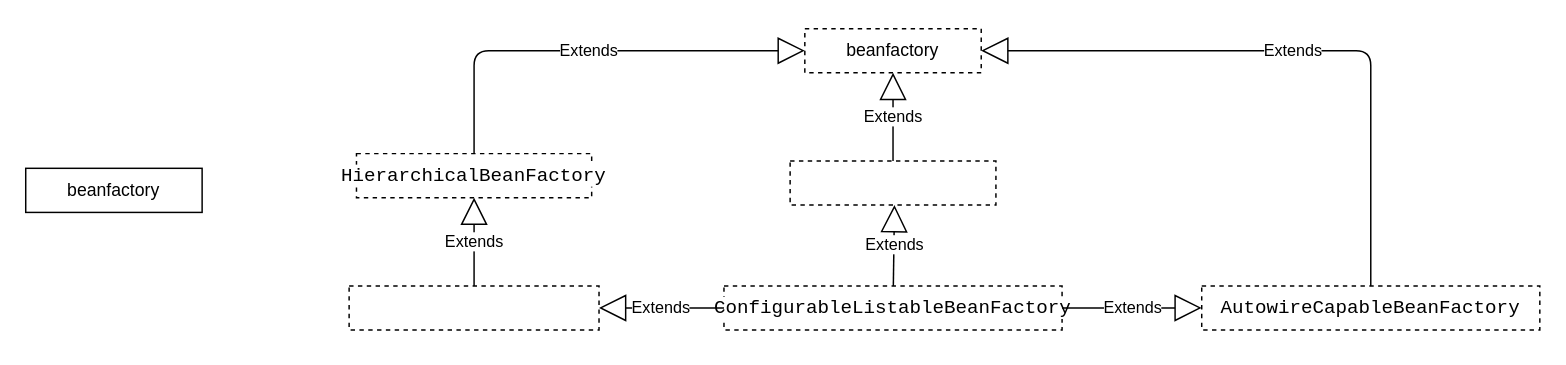
Image size: 1566x365. Some labels were removed from this diagram. Here are the shapes that lost their labels. From the top down, the centre of each, then its label:
point (892, 182): ListableBeanFactory
point (473, 307): ConfigurableBeanFactory
